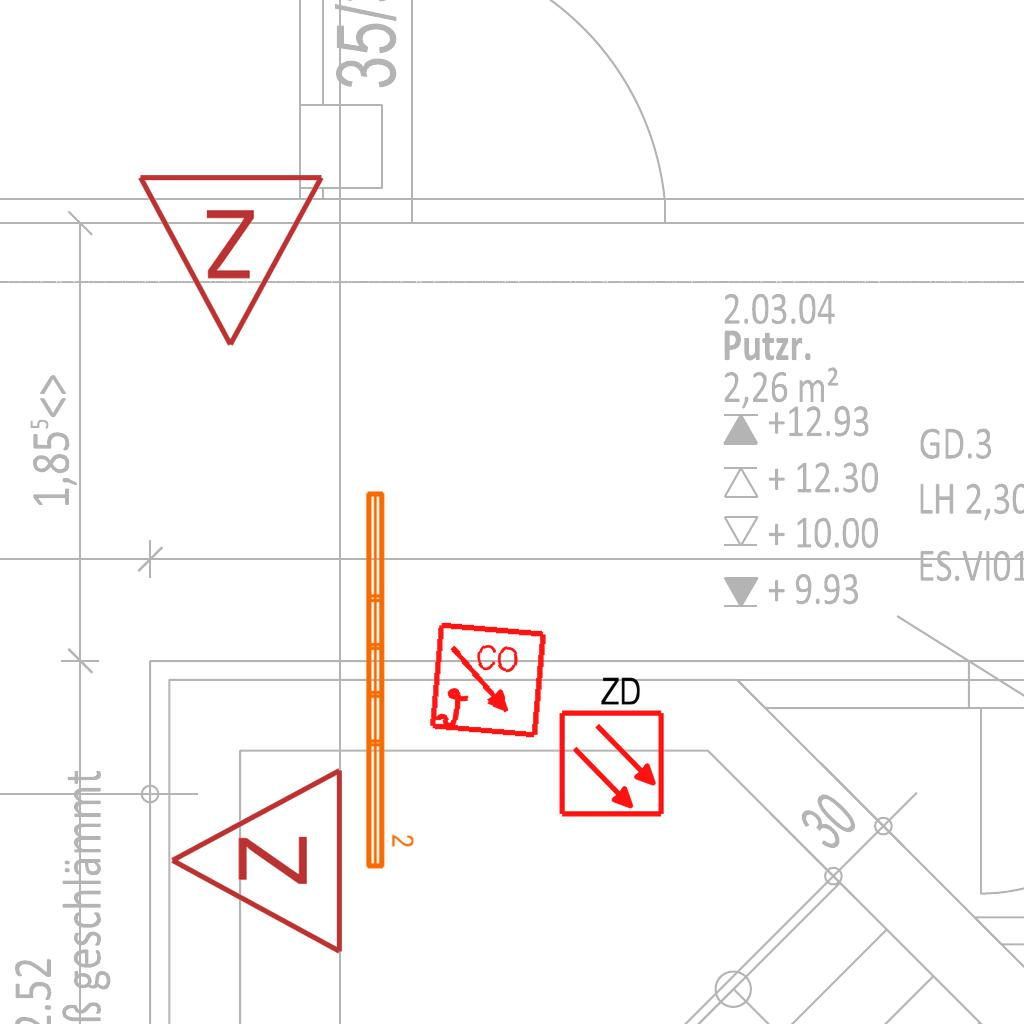Ambulanz_Pendelleuchte_LED: (360, 486, 416, 873)
ROA_Rauchmelder_optisch_mit_Signalgeber_(Sockelsirene): (427, 620, 550, 743)
ZD_Melder_in_Zwischendecke_mit_Revisionsoeffnung_mind_40_x_40_cm: (553, 670, 667, 819)
Zimmersignalleuchte: (157, 765, 357, 961), (135, 160, 331, 360)
